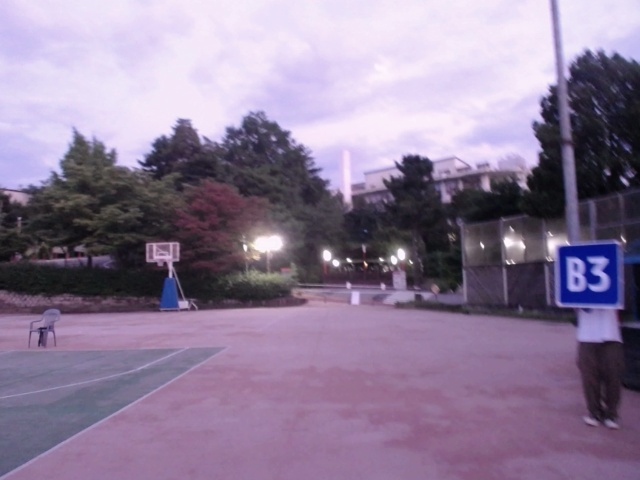delivery_b3: (555, 242, 622, 307)
